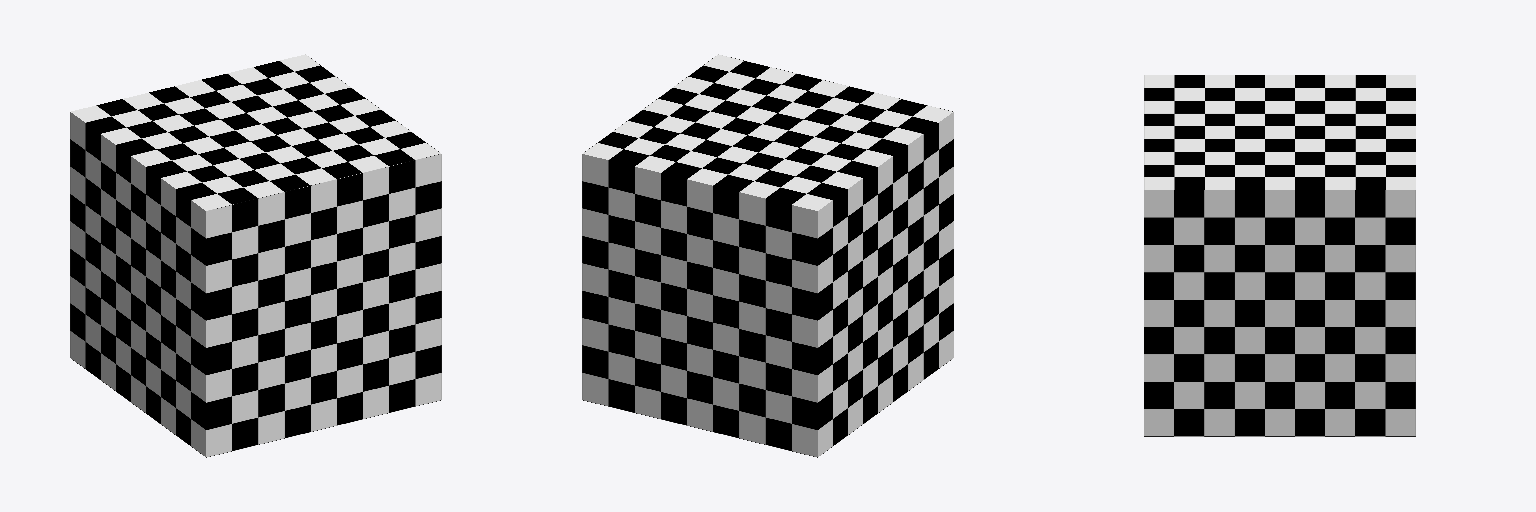
3 views of the same model, side by side, from view 1: azimuth 30°, elevation 25°; view 2: azimuth 150°, elevation 25°; view 3: azimuth 270°, elevation 25° (orthographic).
Visible parts, largest first — view 1: Cube; view 2: Cube; view 3: Cube.
Part boxes in pixels (x1,y1,x2,y2): Cube: (70, 54, 441, 457); Cube: (582, 54, 953, 457); Cube: (1144, 75, 1415, 436).
Size of the model in its own units: 2 by 2 by 2.
Materials: 1 (1 with a texture image).